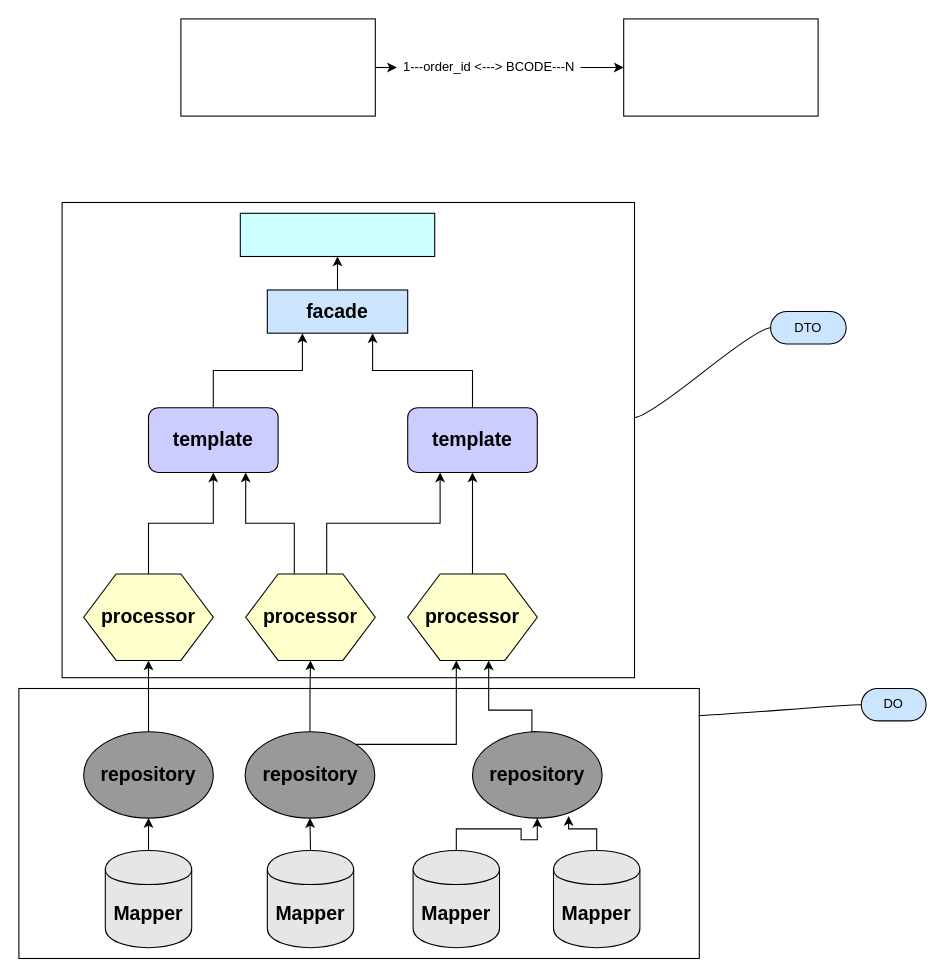
The diagram is 945 pixels wide and 977 high, and some of its shapes have lost their labels. The shapes that lost their labels are listed below. From the top down, each one's centre as x and y in pixels, then its label:
(277,67): bills--订单表 order_id pos_id work_day
(720,67): KPARTITMES--菜品表 BCODE -订单号 PCODE -产品编号 PNAME -产品名称
(337,234): controller
